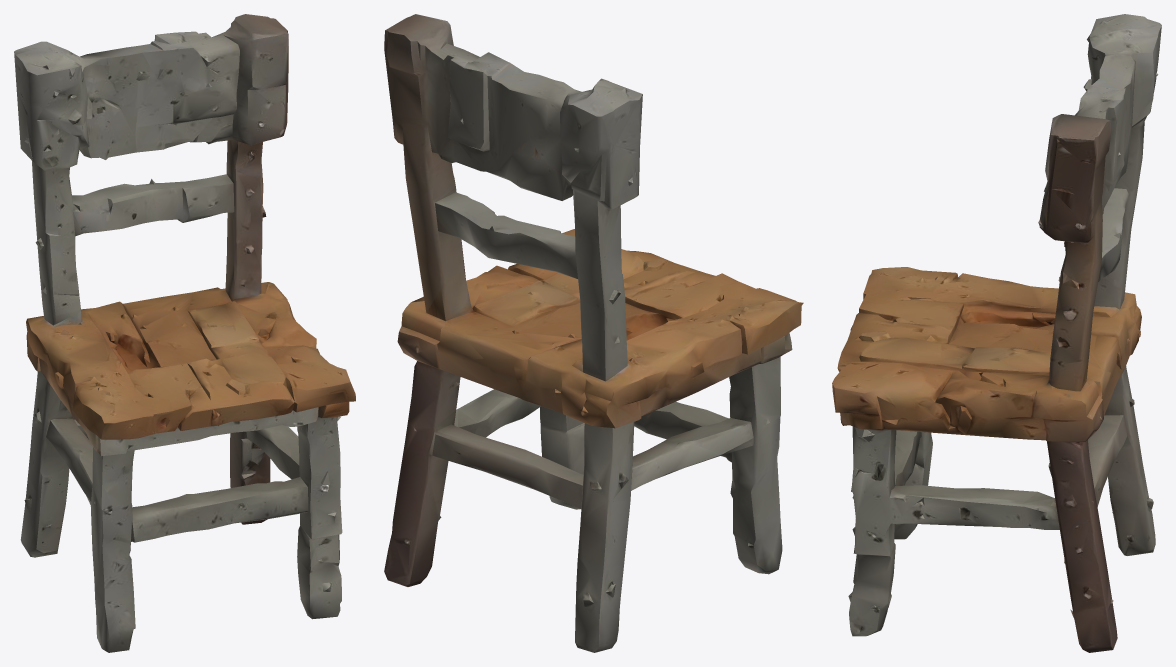
The model's file is chair_idle.glb.
3 renders of one model, left to right at view 1: azimuth 30°, elevation 25°; view 2: azimuth 150°, elevation 25°; view 3: azimuth 270°, elevation 25°, orthographic. The views are drawn at different scales.
Parts seen in each view (by area): view 1: tripo_node_9b65fa99-f5ac-460d-9555-d47f36428d65; view 2: tripo_node_9b65fa99-f5ac-460d-9555-d47f36428d65; view 3: tripo_node_9b65fa99-f5ac-460d-9555-d47f36428d65.
Part boxes in pixels (x1,y1,x2,y2): tripo_node_9b65fa99-f5ac-460d-9555-d47f36428d65: [14, 14, 355, 652]; tripo_node_9b65fa99-f5ac-460d-9555-d47f36428d65: [384, 14, 803, 652]; tripo_node_9b65fa99-f5ac-460d-9555-d47f36428d65: [832, 14, 1161, 652].
Bounding box in the file's own units: 0.5147 × 0.8999 × 0.5073.
Materials: 1 (1 with a texture image).
